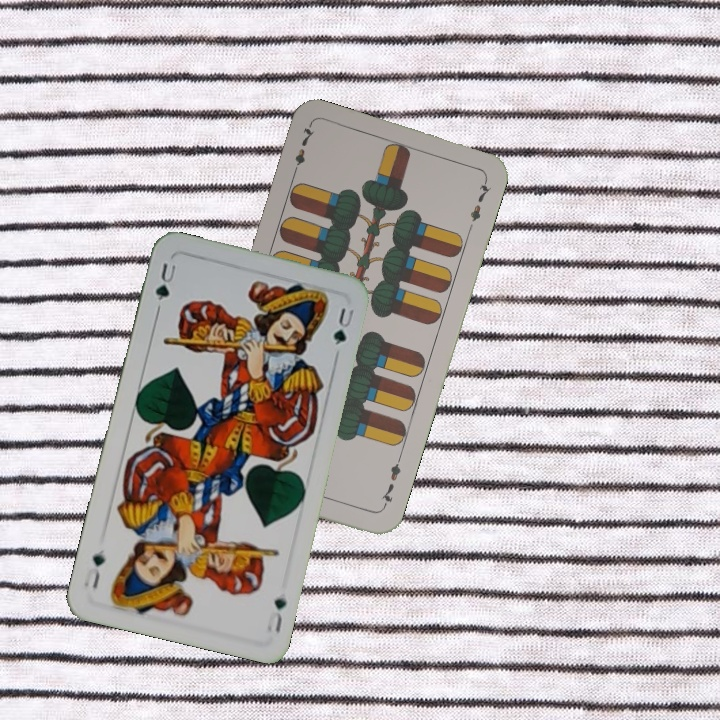E7: (288, 122, 317, 179), (377, 453, 404, 511)
GU: (151, 259, 179, 303), (263, 593, 289, 635)
